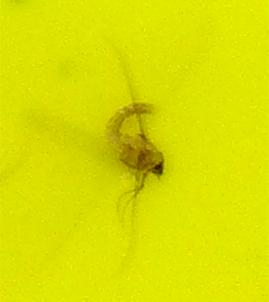Ephemeroptera: (100, 100, 169, 202)
